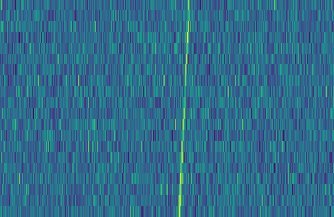signal: (174, 0, 194, 217)
